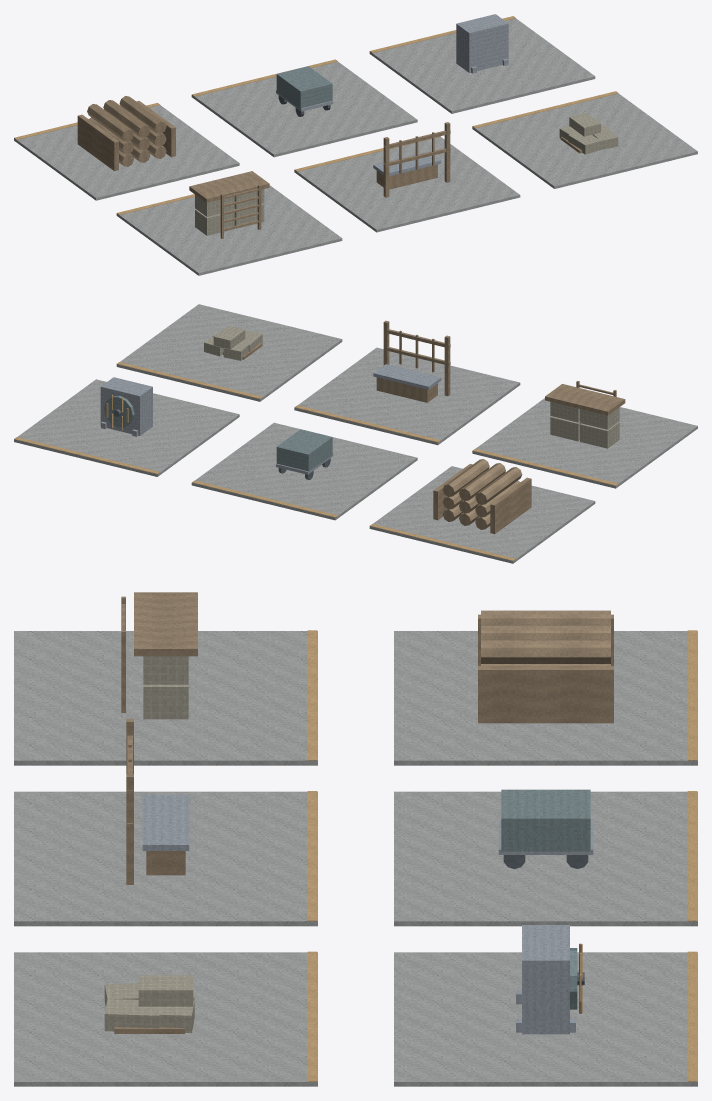
Rendered from level_blockout_kit_wld_01_p01.glb.
The picture shows the model from 3 angles, top to bottom: view 1: azimuth 30°, elevation 25°; view 2: azimuth 150°, elevation 25°; view 3: azimuth 270°, elevation 25°; orthographic projection. The views are drawn at different scales.
Visible parts, largest first — view 1: level_blockout_kit_wld_01_p01; view 2: level_blockout_kit_wld_01_p01; view 3: level_blockout_kit_wld_01_p01.
Part boxes in pixels (box(x1,y1,x2,y2)): level_blockout_kit_wld_01_p01: box(14, 14, 697, 275); level_blockout_kit_wld_01_p01: box(14, 304, 697, 563); level_blockout_kit_wld_01_p01: box(14, 592, 697, 1086).
Bounding box in the file's own units: 19.65 × 2.31 × 12.6.
Materials: 7 (7 with a texture image).
